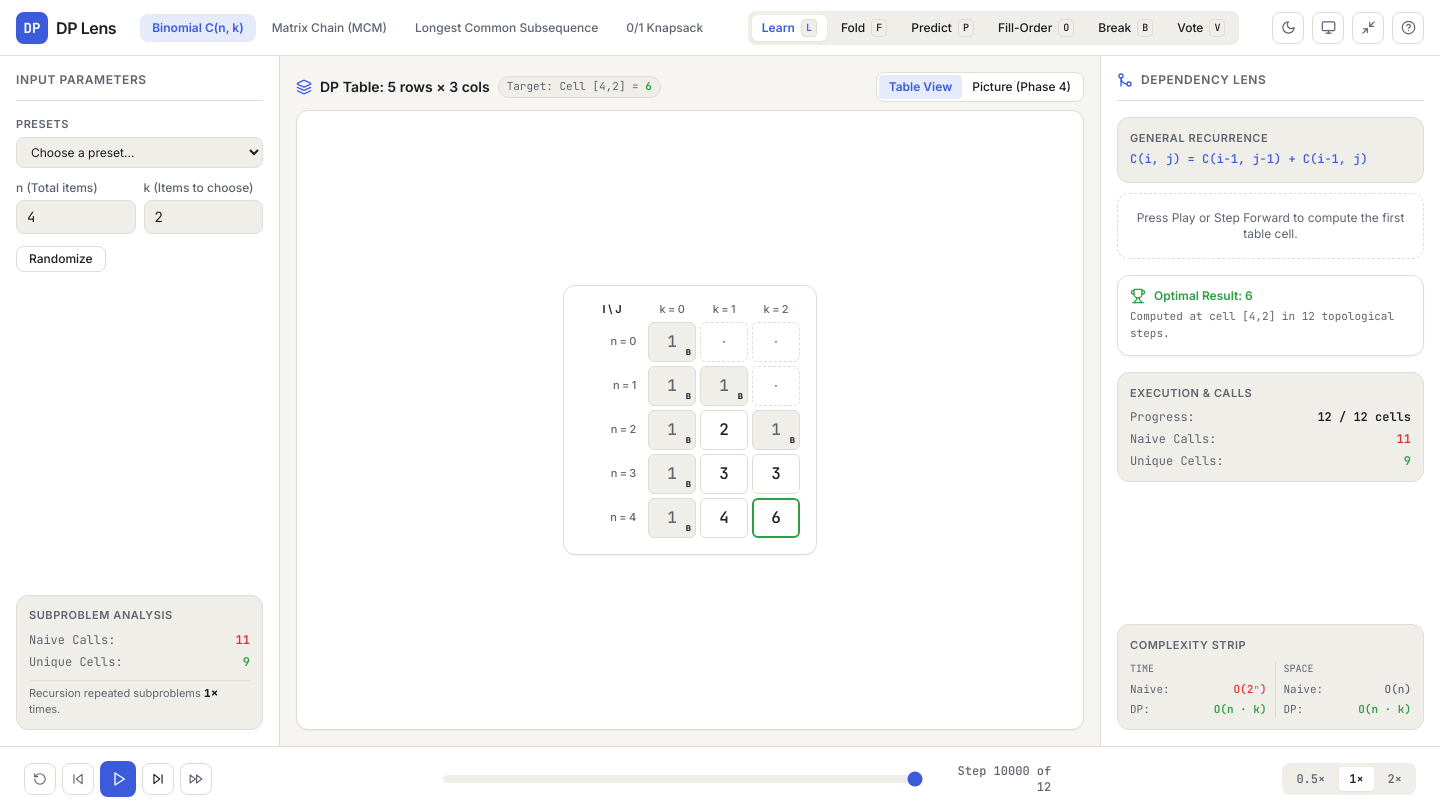
Test: Phase 3 Learn Mode Integration › activates Dependency Lens on cell click and inspects terms
Click the button "6".
click(776, 518)  # box [752,498,800,538]
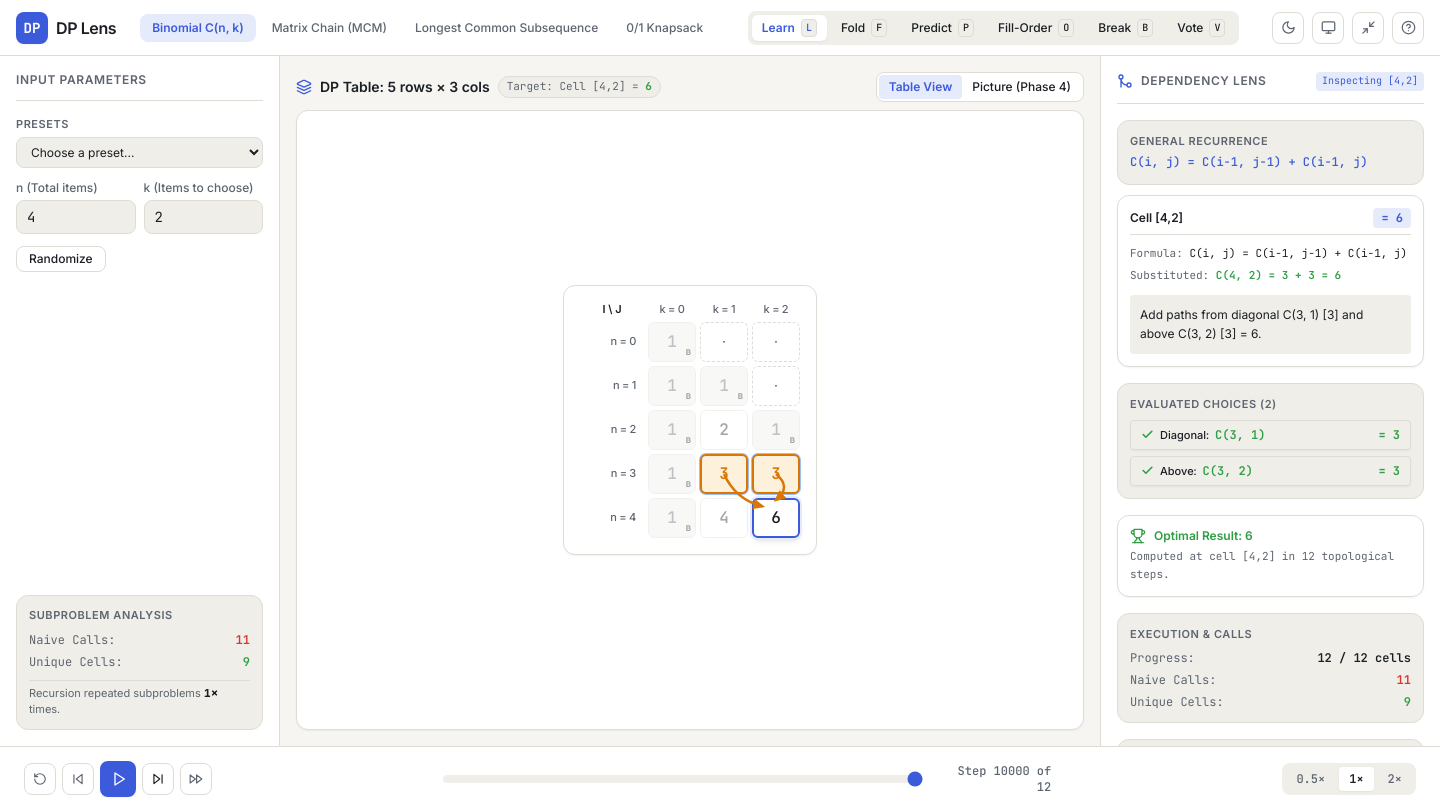
Expected: the text "Inspecting [4,2]" is shown, [1316,72,1424,90]
